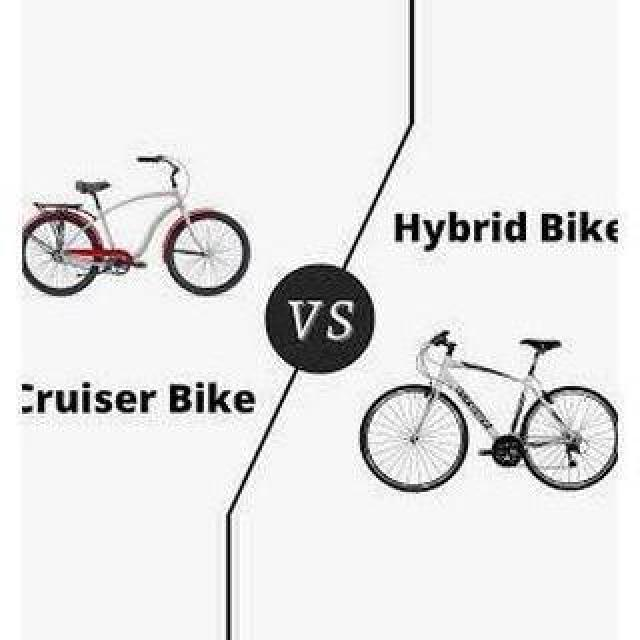Person: (358, 330, 624, 494), (21, 158, 253, 296)
